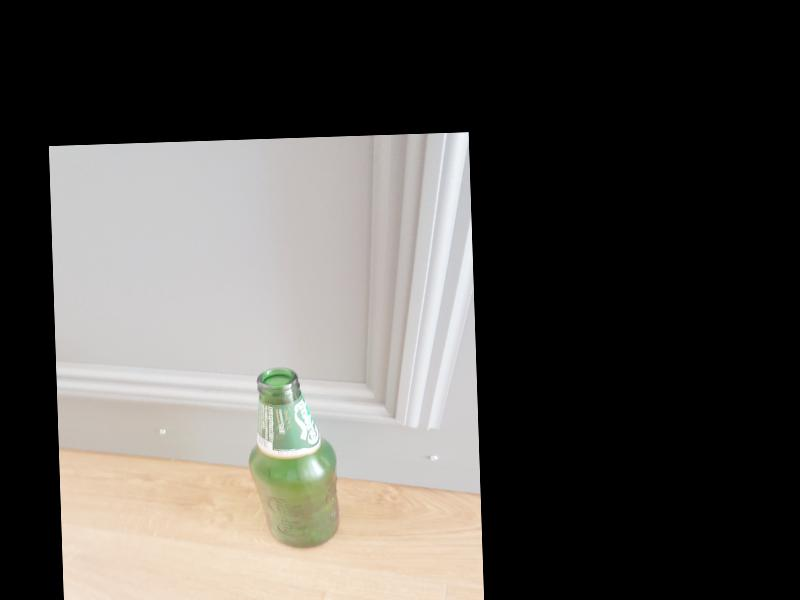Beer: (245, 366, 341, 550)
